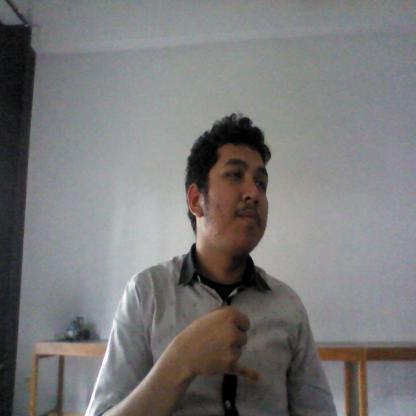J: (176, 304, 264, 394)
